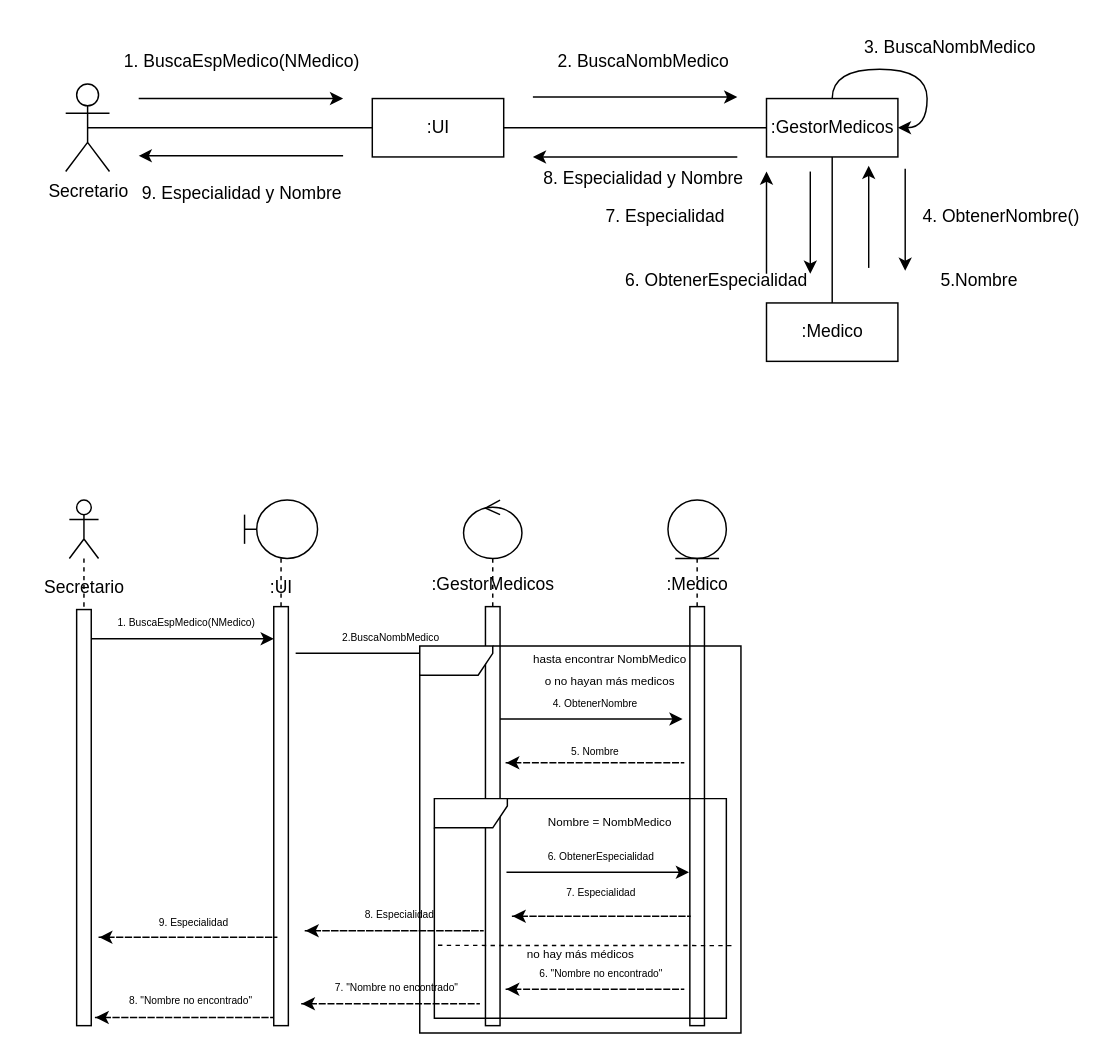
Image size: 1120x1059. Some labels were removed from this diagram. Each missing label, with the box of its shape:
alt: (433, 797, 726, 1018)
loop: (418, 645, 741, 1033)
